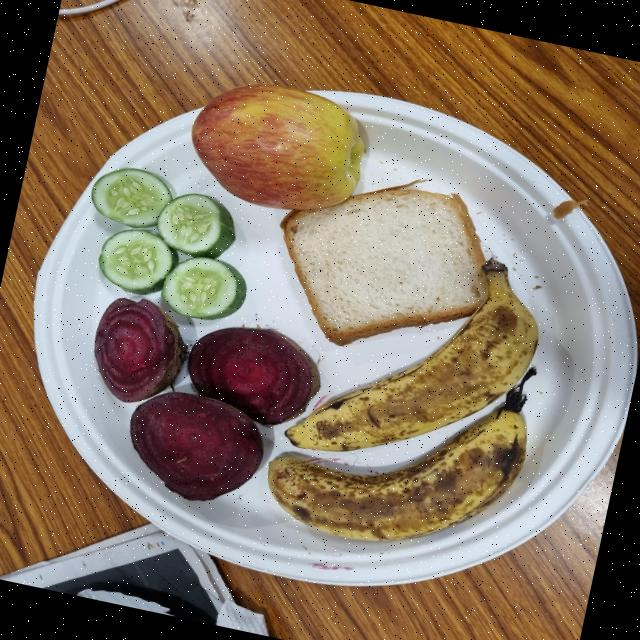apple: (192, 83, 369, 210)
banana: (288, 258, 540, 455), (268, 387, 529, 542)
cucumber: (158, 254, 247, 319), (91, 166, 177, 233), (98, 226, 182, 294), (154, 192, 238, 257)
